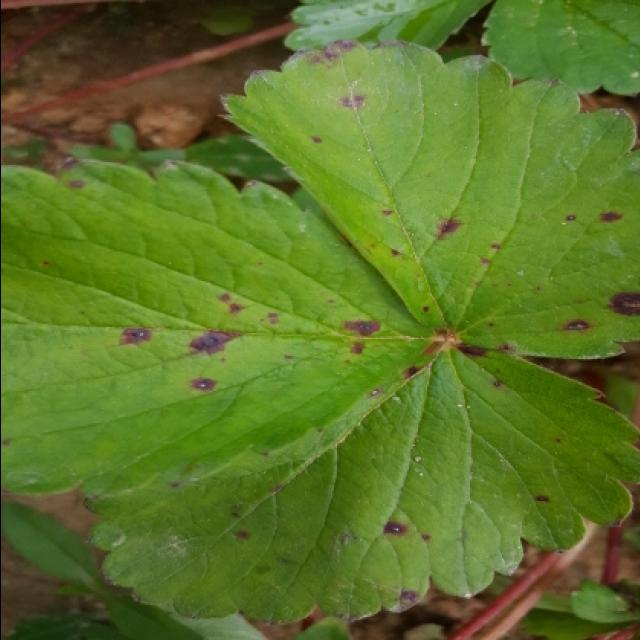Leaf Spot: (81, 340, 640, 627), (2, 155, 447, 500), (212, 38, 640, 360)
